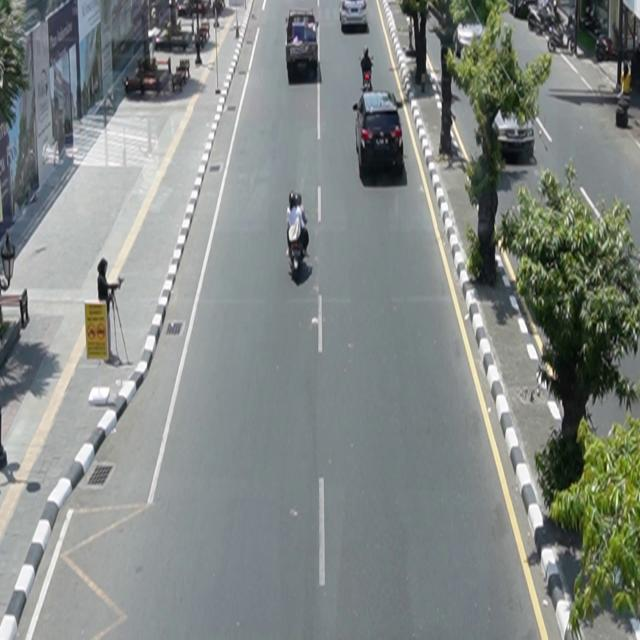car: (353, 90, 405, 177), (286, 9, 320, 76), (340, 1, 369, 31)
